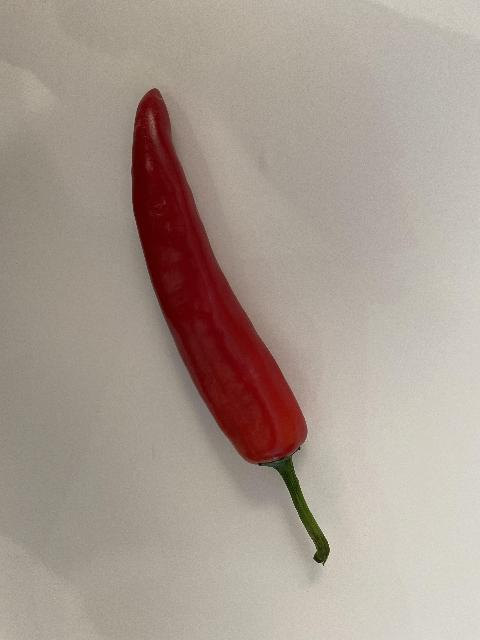chilli: (128, 86, 332, 566)
